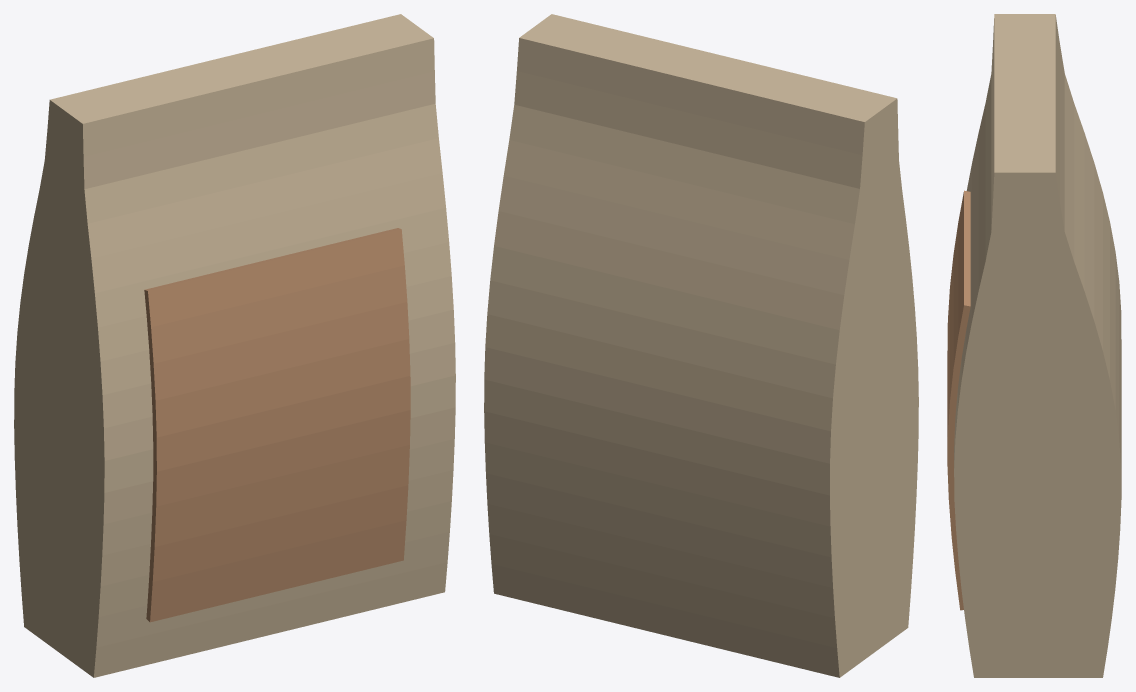
File: flour.glb
The picture shows the model from 3 angles, left to right: view 1: azimuth 30°, elevation 25°; view 2: azimuth 150°, elevation 25°; view 3: azimuth 270°, elevation 25°; orthographic projection. The views are drawn at different scales.
Parts seen in each view (by area): view 1: Cube.001; view 2: Cube.001; view 3: Cube.001.
Part boxes in pixels (x1,y1,x2,y2): Cube.001: (14,14,455,677); Cube.001: (484,14,918,677); Cube.001: (947,14,1121,677).
Bounding box in the file's own units: 4.6 × 6.83 × 2.13.
